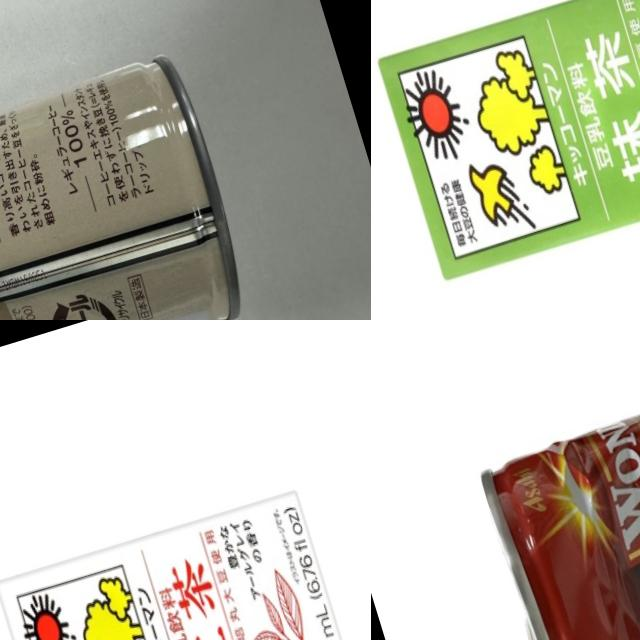Aluminium Foil: (371, 0, 640, 295), (0, 481, 361, 640)
Can: (0, 40, 253, 320), (471, 344, 640, 640)
